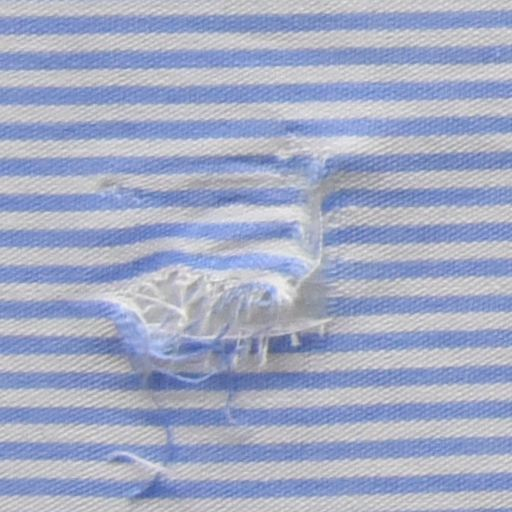defect: (77, 120, 334, 512)
